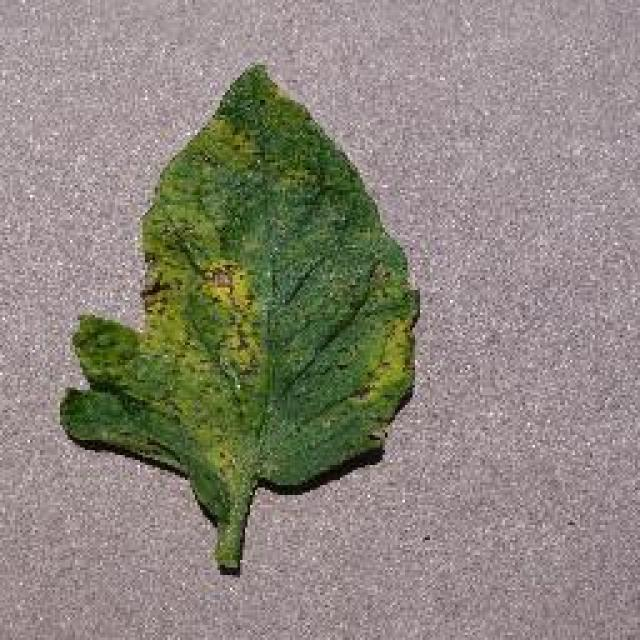Tomato Septoria spot leaf: (59, 61, 424, 492)
